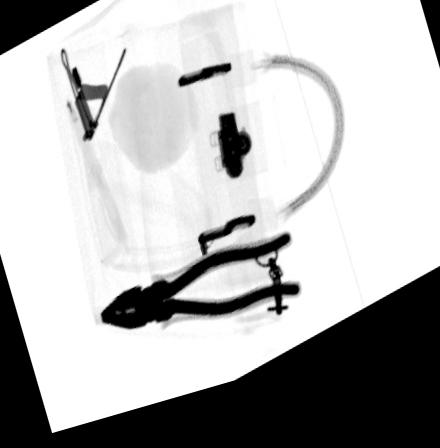Pliers: (98, 247, 302, 342)
